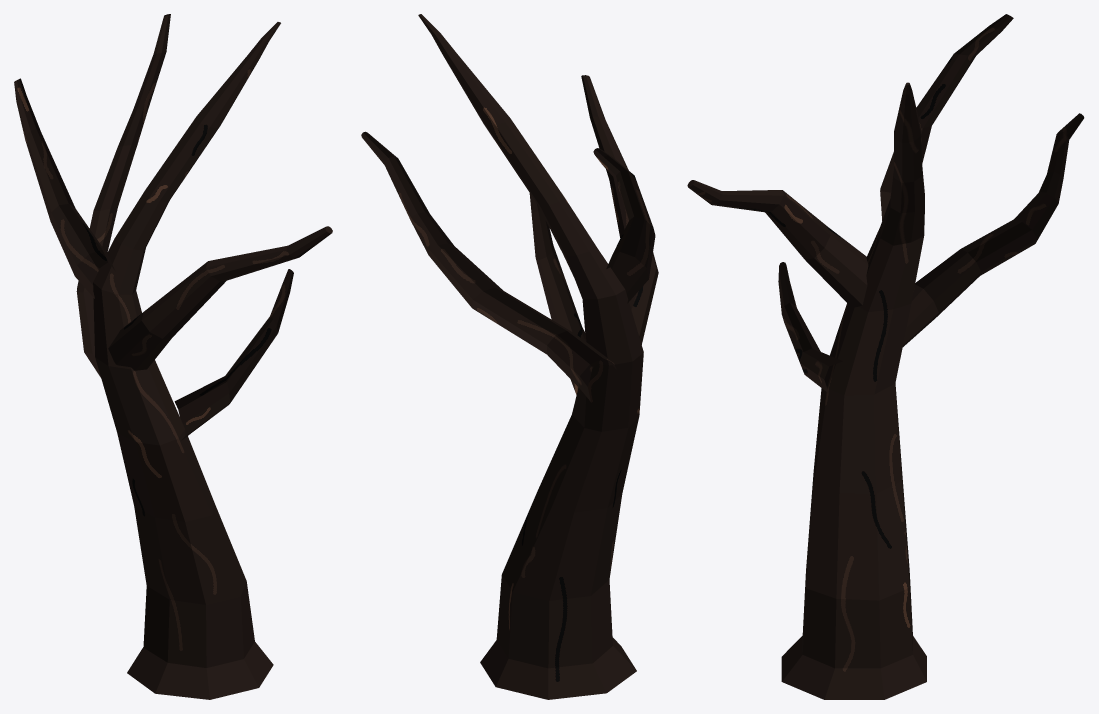
Rendered from SM_BihSTree.fbx.
3 views of the same model, side by side, from view 1: azimuth 30°, elevation 25°; view 2: azimuth 150°, elevation 25°; view 3: azimuth 270°, elevation 25° (orthographic). The views are drawn at different scales.
Parts seen in each view (by area): view 1: SM_BihSTree; view 2: SM_BihSTree; view 3: SM_BihSTree.
Part boxes in pixels (x1,y1,x2,y2): SM_BihSTree: (14,14,332,699); SM_BihSTree: (361,14,658,699); SM_BihSTree: (687,14,1084,699).
Size of the model in its own units: 711 by 1800 by 1012.
